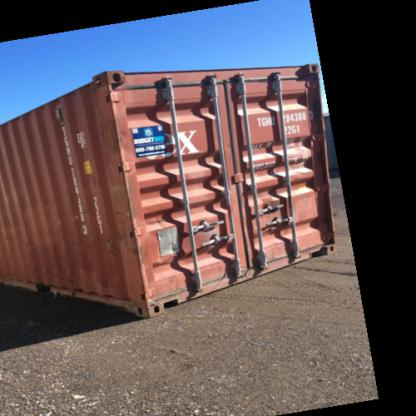Damage: (105, 198, 144, 237), (105, 155, 138, 196), (97, 111, 130, 148), (49, 212, 77, 243), (30, 275, 56, 303), (104, 229, 122, 254)
